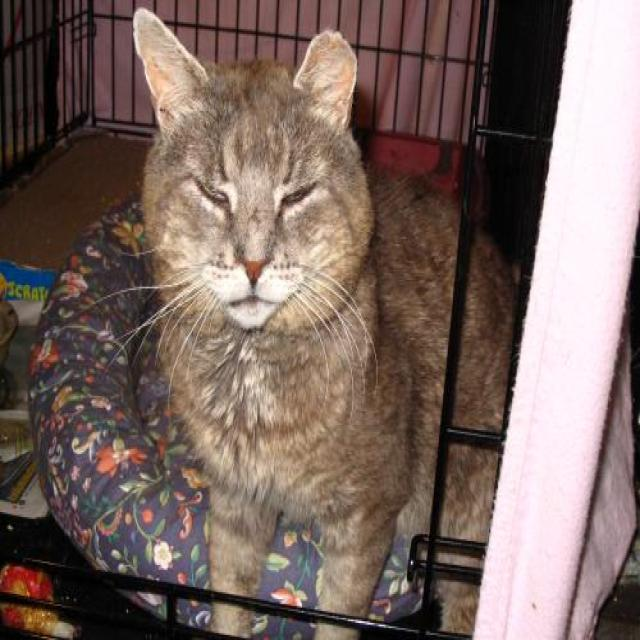Cats: (107, 5, 521, 638)
